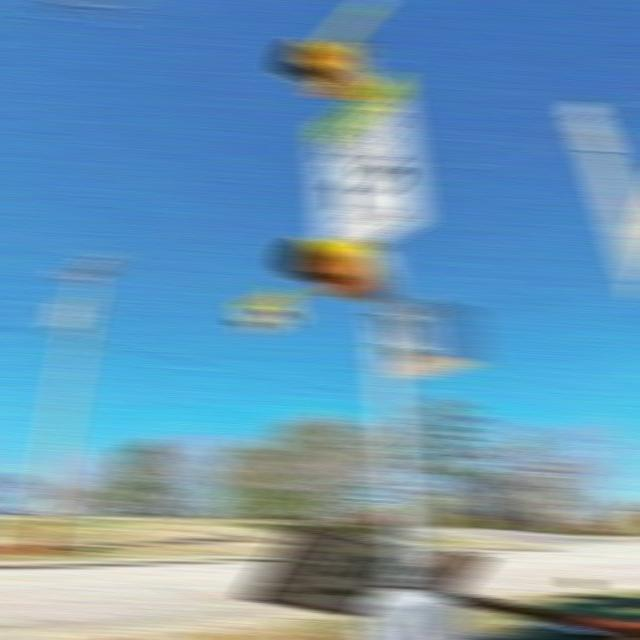speedLimit15: (306, 93, 423, 211)
